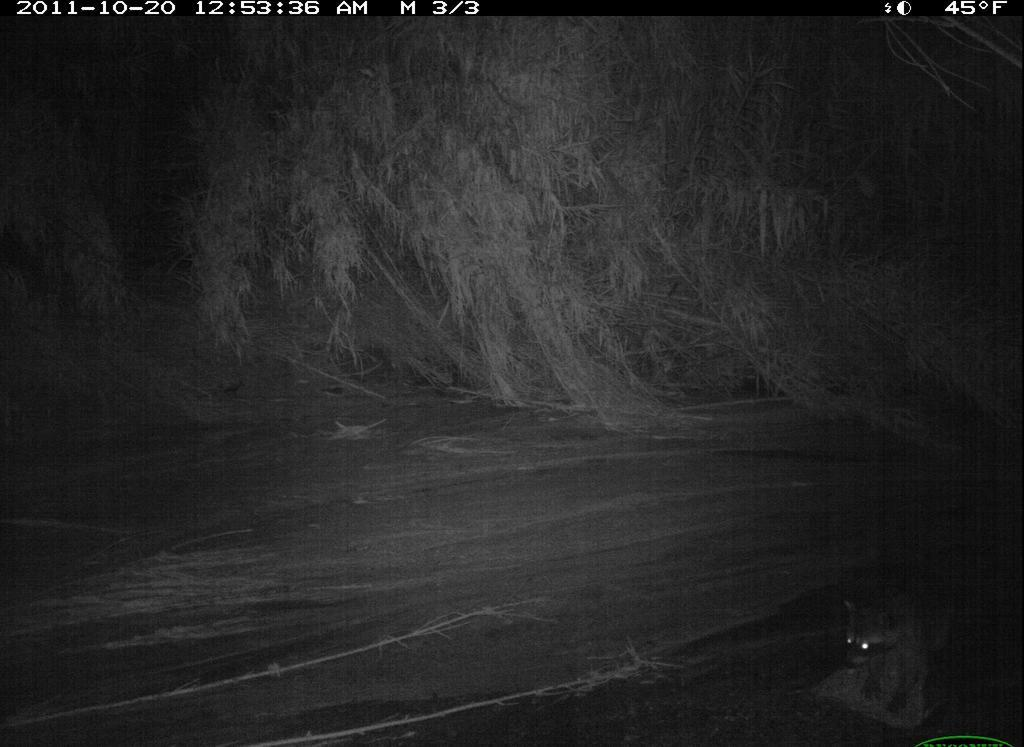raccoon: (808, 538, 990, 702)
